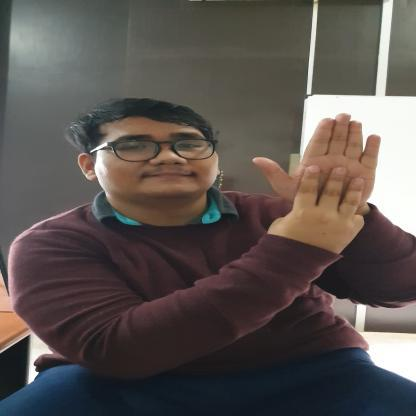M: (250, 112, 384, 235)
